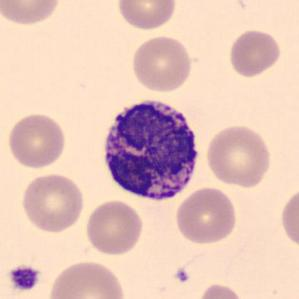Basophil: (95, 91, 206, 206)
Platelets: (6, 264, 43, 292), (173, 267, 192, 284)
RBC: (204, 122, 274, 189), (19, 171, 87, 234), (174, 186, 239, 246), (130, 34, 194, 94), (6, 111, 68, 171), (83, 198, 145, 256), (46, 258, 128, 299), (227, 28, 283, 78), (115, 0, 178, 31), (0, 0, 62, 27), (278, 185, 298, 251), (195, 281, 245, 299)
